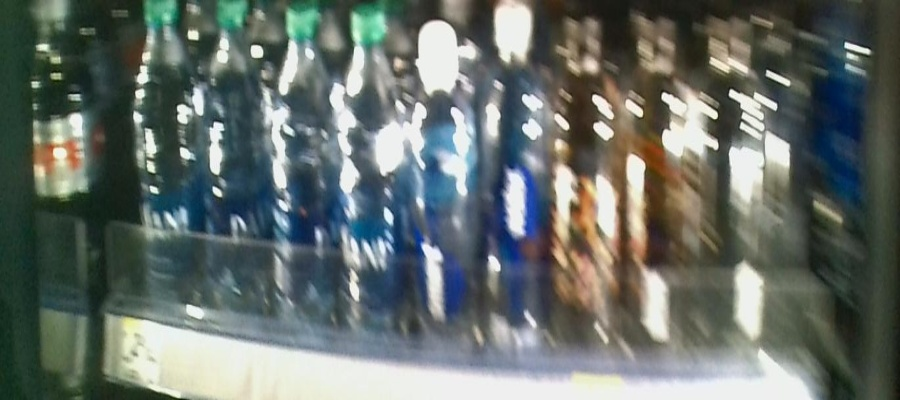bottle: (410, 10, 482, 367), (487, 1, 552, 376), (339, 9, 403, 368), (625, 4, 688, 367), (269, 2, 332, 356), (133, 4, 199, 337), (558, 7, 618, 365), (204, 9, 259, 346)
